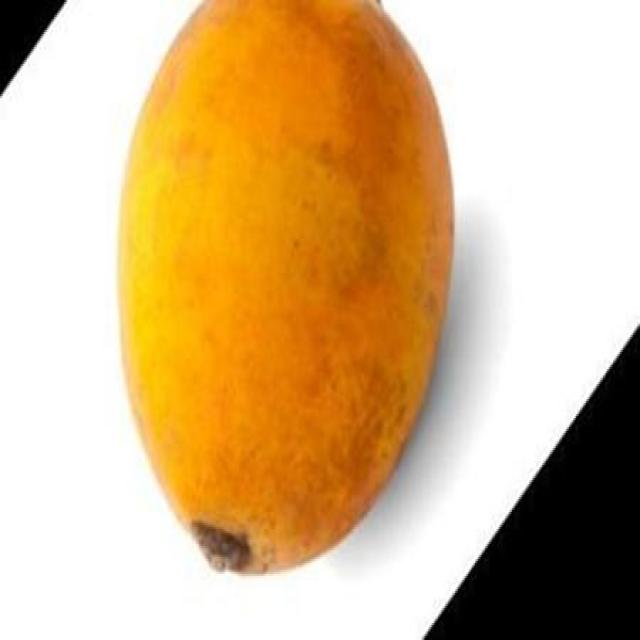good: (115, 0, 457, 578)
